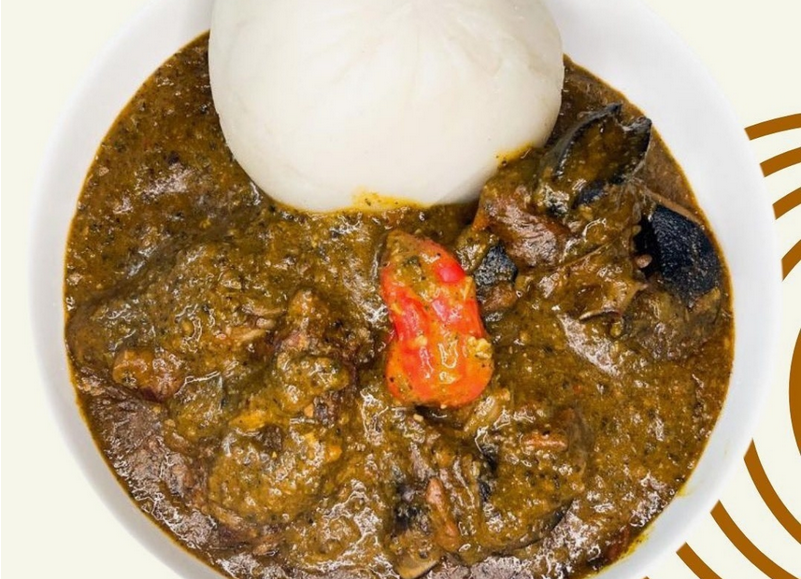escargot: (640, 202, 728, 299)
pigment: (378, 242, 488, 417)
placali: (211, 1, 555, 134)
sauce djoumbe: (115, 106, 209, 240)
